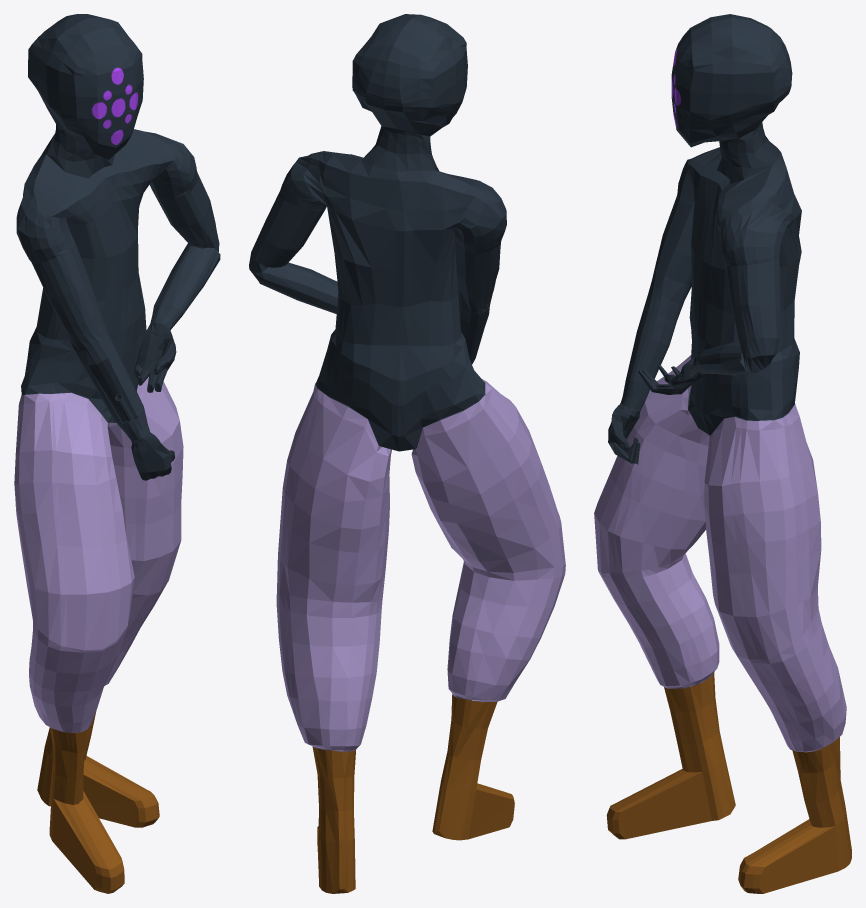
The model's file is Oracle_WB_000025.obj.
The picture shows the model from 3 angles, left to right: view 1: azimuth 30°, elevation 25°; view 2: azimuth 150°, elevation 25°; view 3: azimuth 270°, elevation 25°; orthographic projection.
Parts seen in each view (by area): view 1: Cube; view 2: Cube; view 3: Cube.
Part boxes in pixels (x1,y1,x2,y2): Cube: (14, 14, 220, 893); Cube: (249, 14, 565, 893); Cube: (594, 14, 851, 893).
Size of the model in its own units: 1.19 by 3.89 by 1.08.
